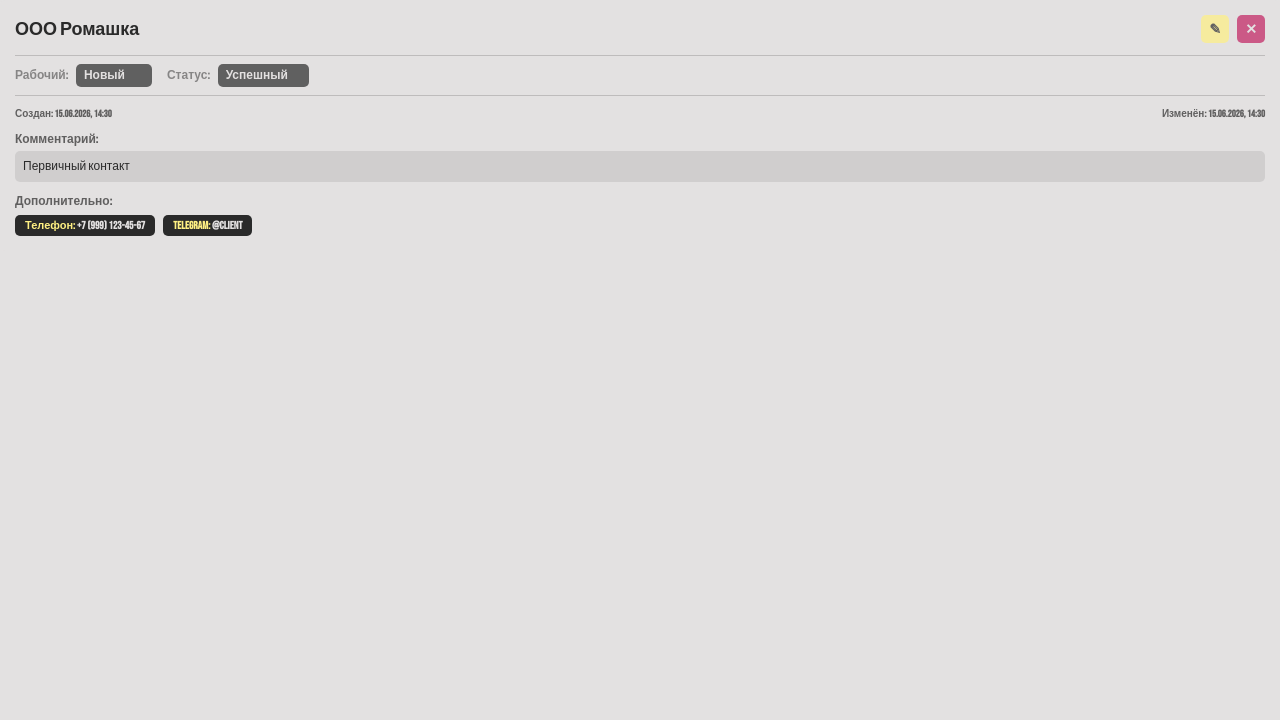
Test: ClientCard › редактирование › выходит из режима редактирования при отмене
Click the button "✎". click: (1215, 29)
box: [1201, 15, 1229, 43]
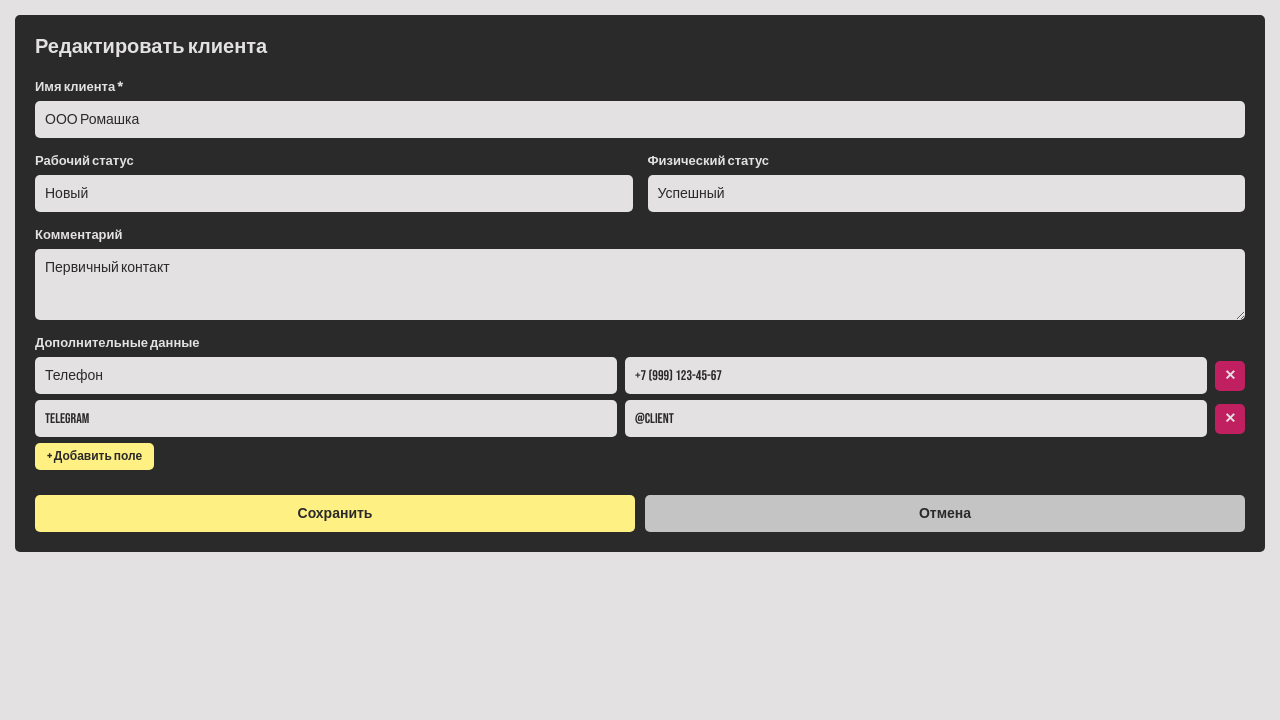
Click the button "Отмена". click: (945, 514)
box: [645, 495, 1245, 532]
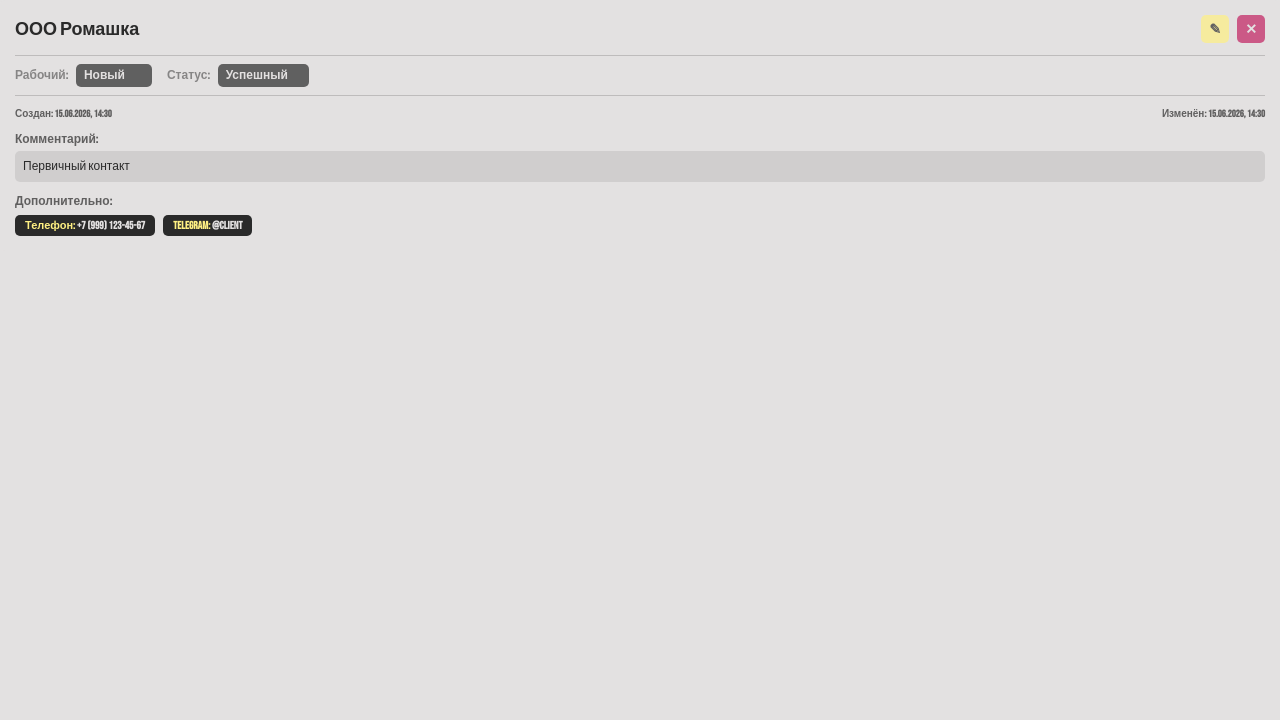
Result: the heading "Редактировать клиента" is gone
